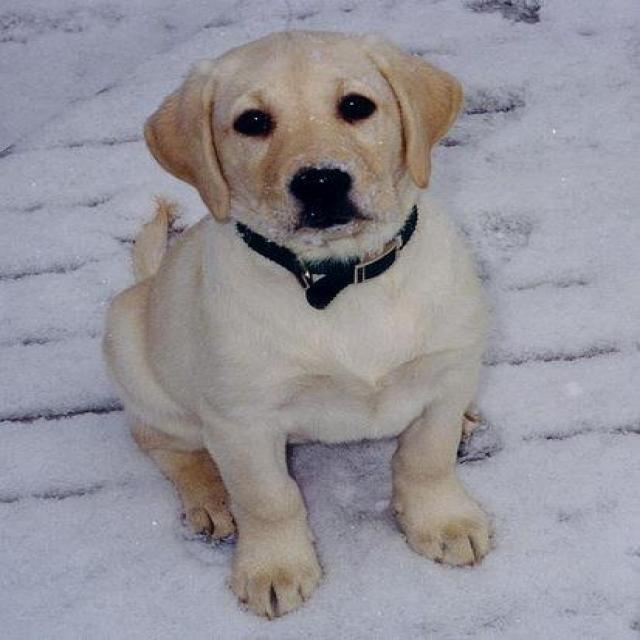sitting: (84, 26, 528, 622)
